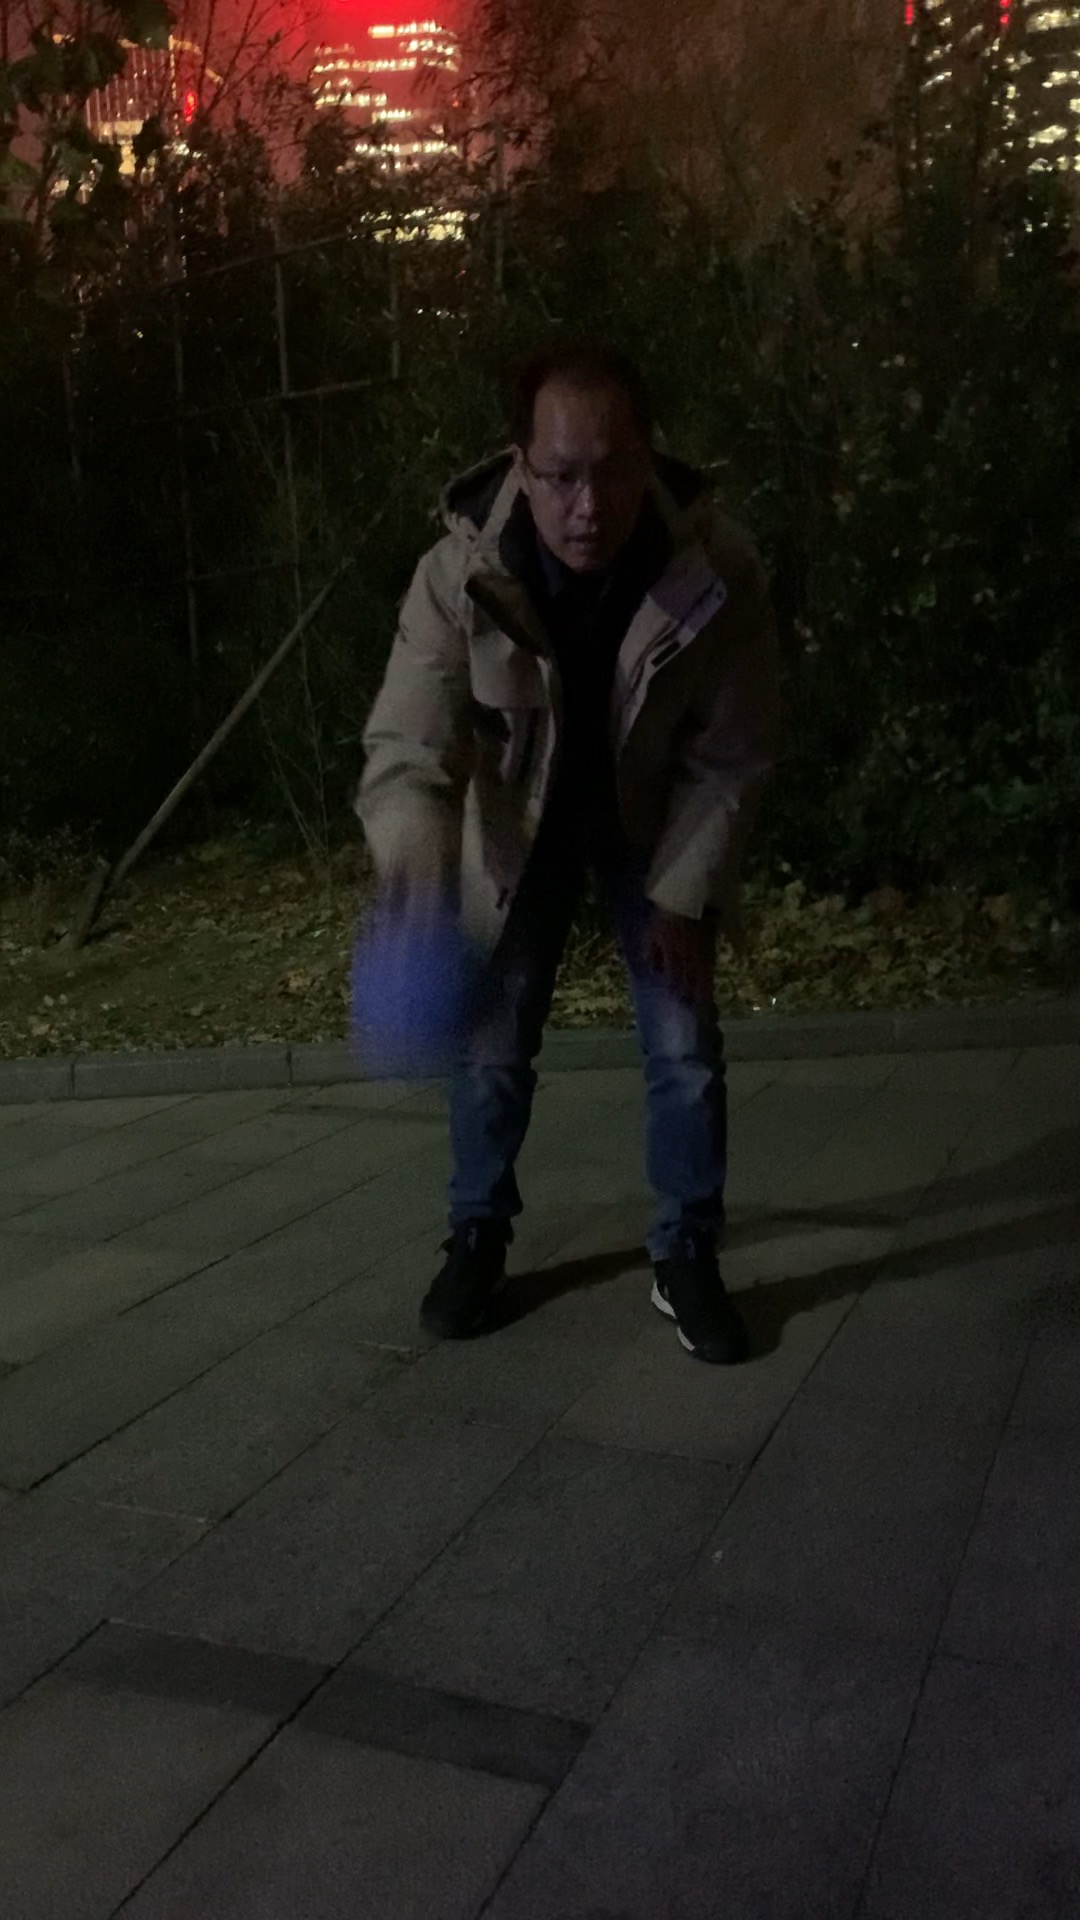ball: (357, 919, 509, 1069)
